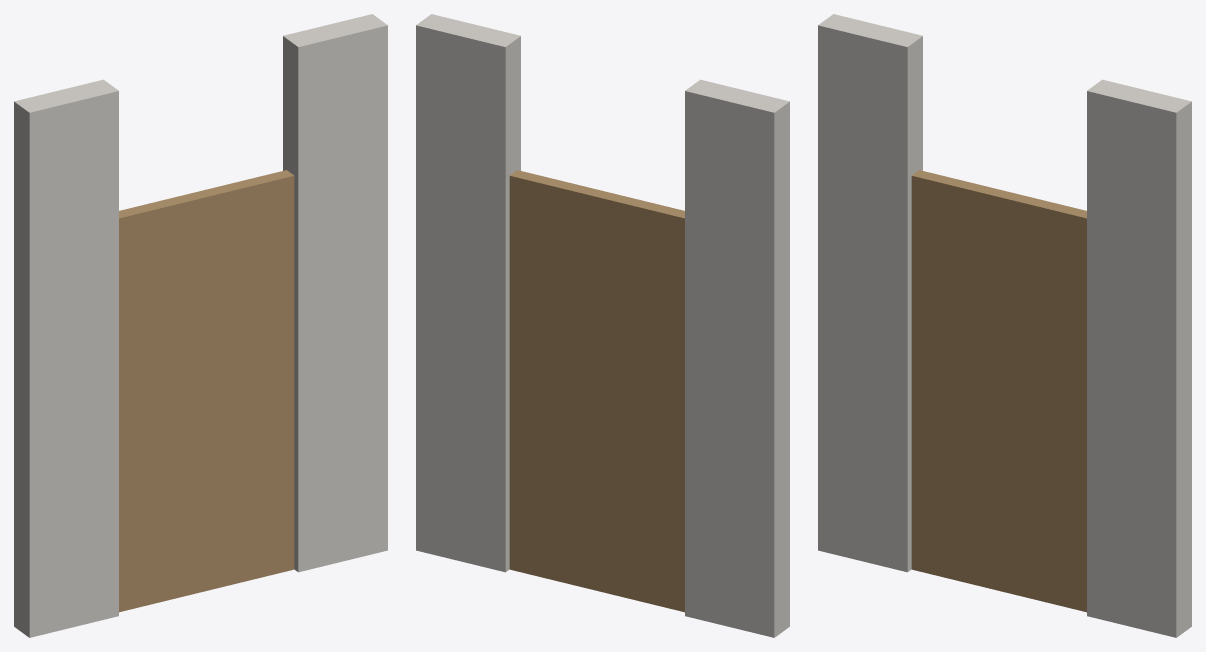
The model's file is door_frame.glb.
The picture shows the model from 3 angles, left to right: view 1: azimuth 30°, elevation 25°; view 2: azimuth 150°, elevation 25°; view 3: azimuth 330°, elevation 25°; orthographic projection.
Parts seen in each view (by area): view 1: Door_N-col, Wall_DoorL-col, Wall_DoorR-col; view 2: Door_N-col, Wall_DoorL-col, Wall_DoorR-col; view 3: Door_N-col, Wall_DoorR-col, Wall_DoorL-col.
Part boxes in pixels (x1,y1,x2,y2): Door_N-col: (119,170,294,612); Wall_DoorL-col: (14,79,118,637); Wall_DoorR-col: (283,14,387,572); Door_N-col: (509,170,684,612); Wall_DoorL-col: (685,79,789,637); Wall_DoorR-col: (416,14,520,572); Door_N-col: (911,170,1086,612); Wall_DoorR-col: (1087,79,1191,637); Wall_DoorL-col: (818,14,922,572).
Bounding box in the file's own units: 2 × 2.8 × 0.15.
Materials: 2 (1 with a texture image).
